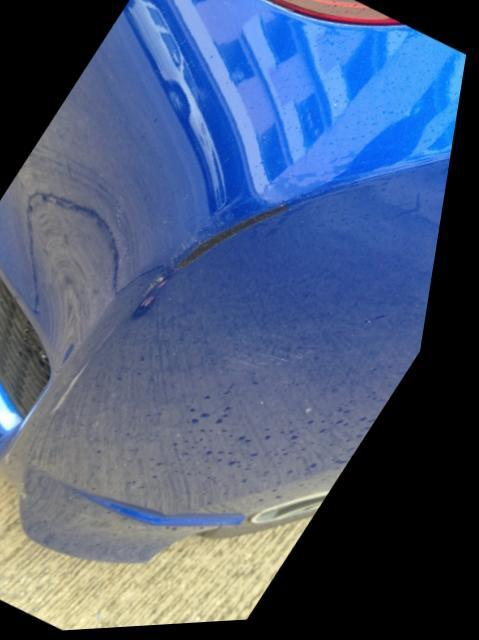scratch: (141, 192, 308, 319)
